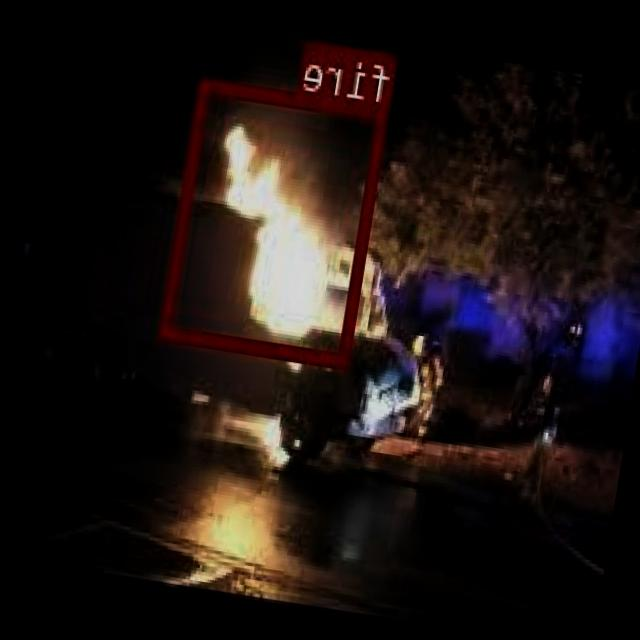fire: (162, 76, 392, 366)
